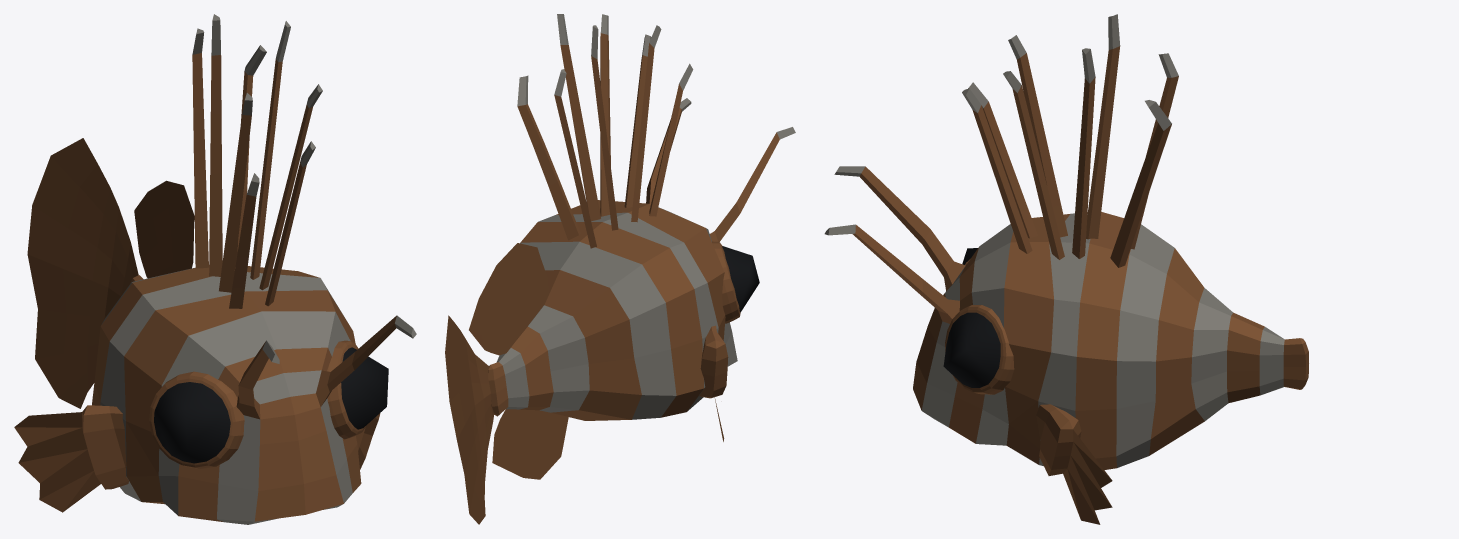
Rendered from cc0-lionfish-lod1.glb.
The picture shows the model from 3 angles, left to right: view 1: azimuth 30°, elevation 25°; view 2: azimuth 150°, elevation 25°; view 3: azimuth 270°, elevation 25°; orthographic projection. The views are drawn at different scales.
Parts seen in each view (by area): view 1: part_0; view 2: part_0; view 3: part_0.
Boxes of the visible parts, x1,y1,x2,y2 form: part_0: [14, 14, 416, 524]; part_0: [445, 14, 795, 524]; part_0: [824, 14, 1308, 524].
Bounding box in the file's own units: 3.79 × 5.11 × 6.32.
